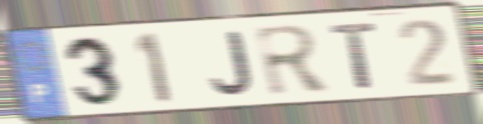1: (133, 30, 176, 105)
2: (396, 16, 455, 87)
3: (62, 33, 129, 111)
J: (208, 29, 256, 98)
R: (251, 22, 336, 99)
T: (327, 20, 381, 92)
